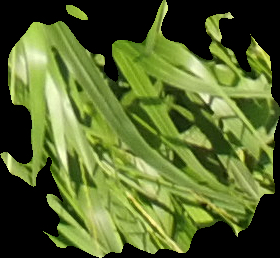grass: (1, 1, 279, 256)
